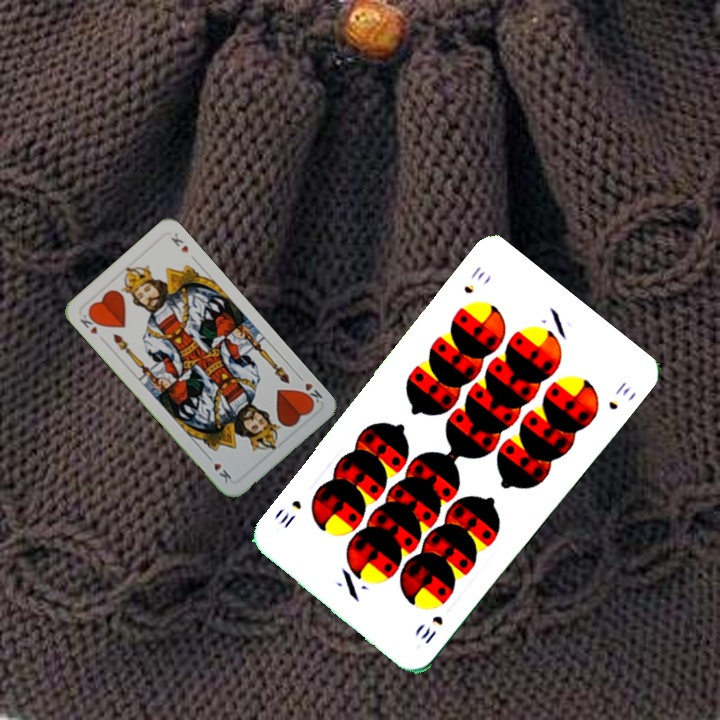HK: (294, 371, 325, 408), (76, 308, 103, 337)
S10: (416, 611, 446, 647), (460, 262, 488, 297)
